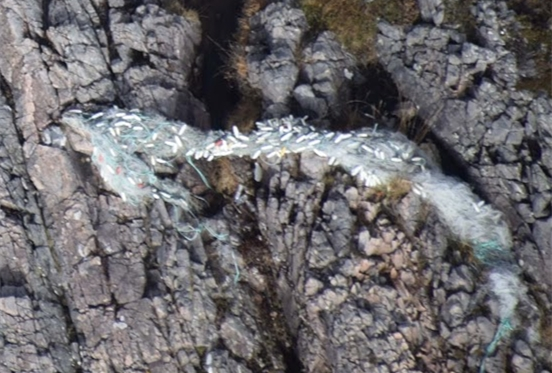net: (62, 100, 409, 203), (409, 138, 526, 365)
